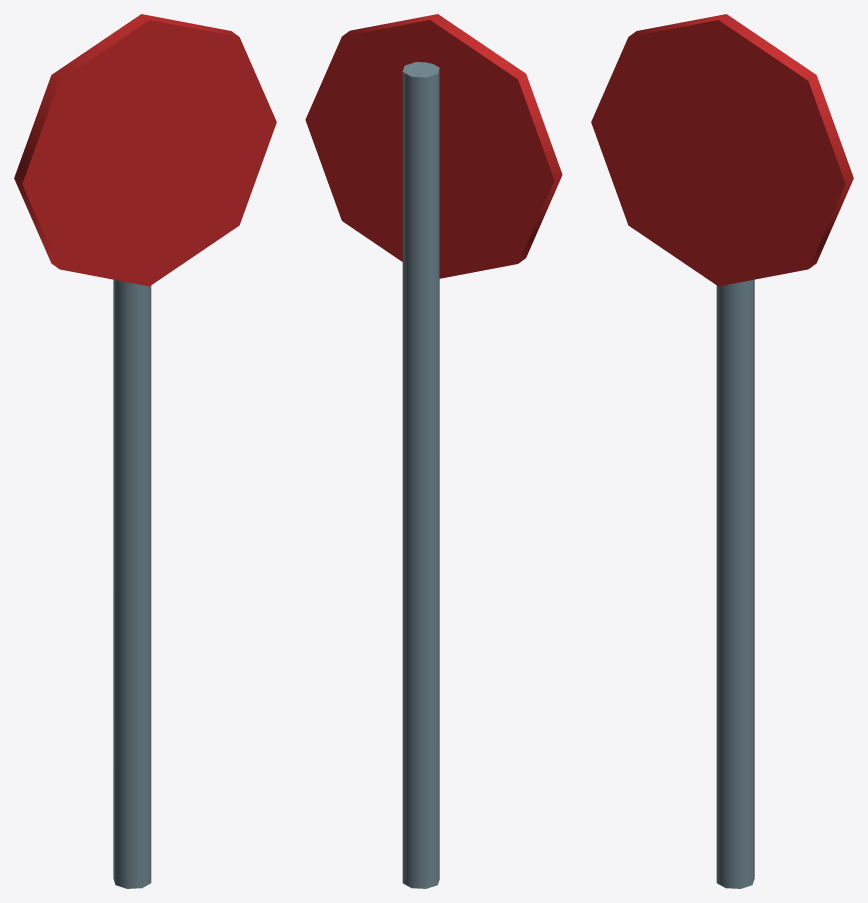
The model's file is stop_sign.glb.
The picture shows the model from 3 angles, left to right: view 1: azimuth 30°, elevation 25°; view 2: azimuth 150°, elevation 25°; view 3: azimuth 330°, elevation 25°; orthographic projection. The views are drawn at different scales.
Size of the model in its own units: 0.9 by 2.95 by 0.165.
